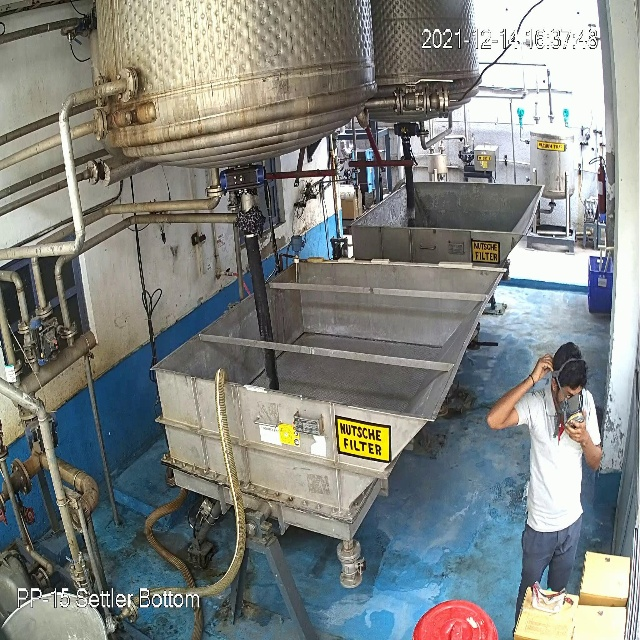Mascara: (553, 391, 587, 440)
Sin_gafas: (551, 380, 586, 407)
Sin_guantes: (474, 353, 556, 430)
